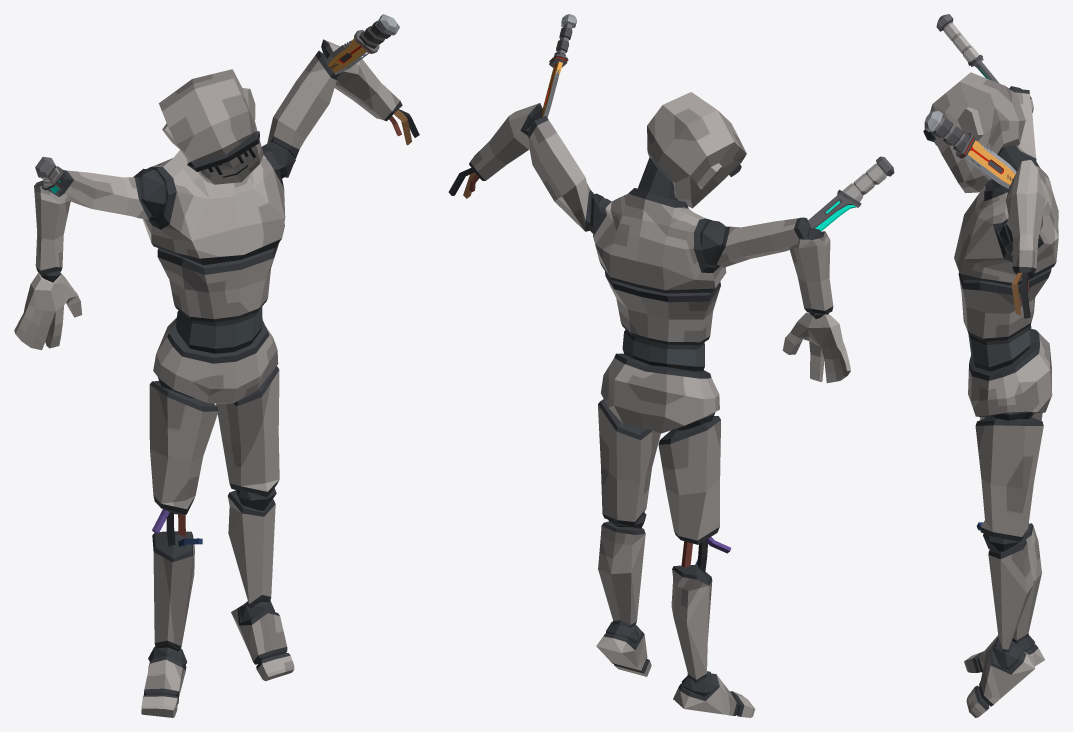
Rendered from SM_Prop_Robot_Posed_Hanging_01.fbx.
The picture shows the model from 3 angles, left to right: view 1: azimuth 30°, elevation 25°; view 2: azimuth 150°, elevation 25°; view 3: azimuth 270°, elevation 25°; orthographic projection. The views are drawn at different scales.
Parts seen in each view (by area): view 1: SM_Prop_Robot_Posed_Hanging_01; view 2: SM_Prop_Robot_Posed_Hanging_01; view 3: SM_Prop_Robot_Posed_Hanging_01.
Boxes of the visible parts, left/top/right/bottom form: SM_Prop_Robot_Posed_Hanging_01: left=14, top=14, right=419, bottom=717; SM_Prop_Robot_Posed_Hanging_01: left=448, top=14, right=894, bottom=717; SM_Prop_Robot_Posed_Hanging_01: left=923, top=14, right=1058, bottom=717.
Bounding box in the file's own units: 134 × 201 × 37.77.
